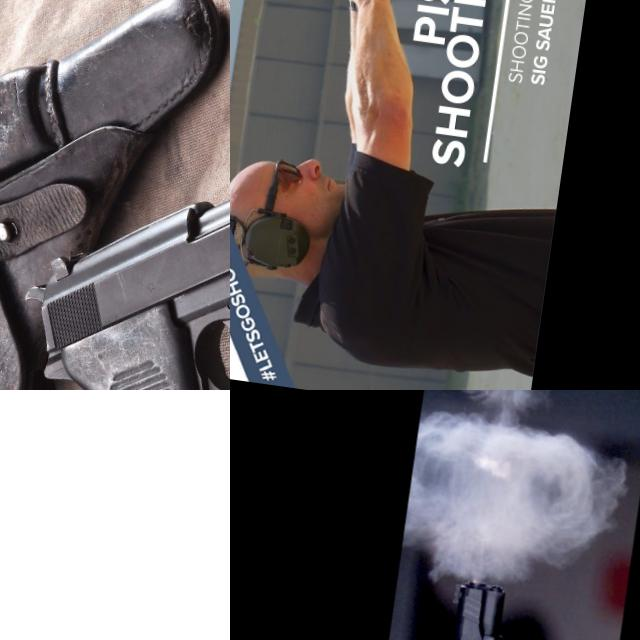handgun: (0, 0, 230, 390), (0, 390, 230, 640), (412, 572, 546, 640), (316, 0, 378, 64)
